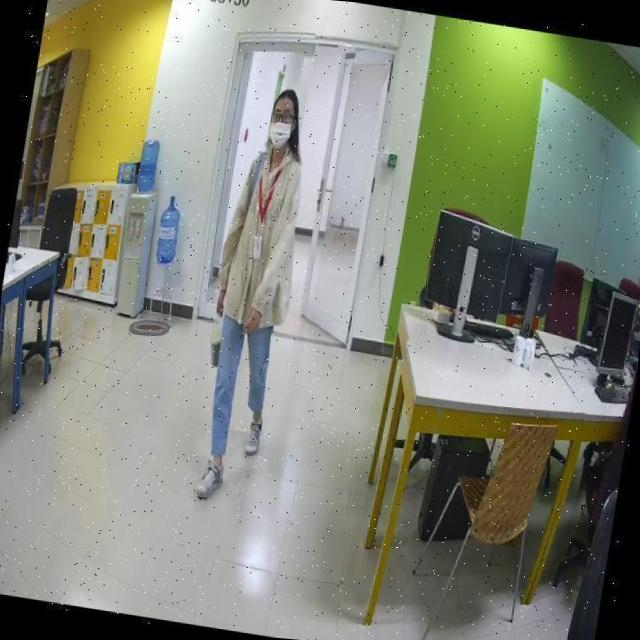person: (190, 85, 320, 514)
